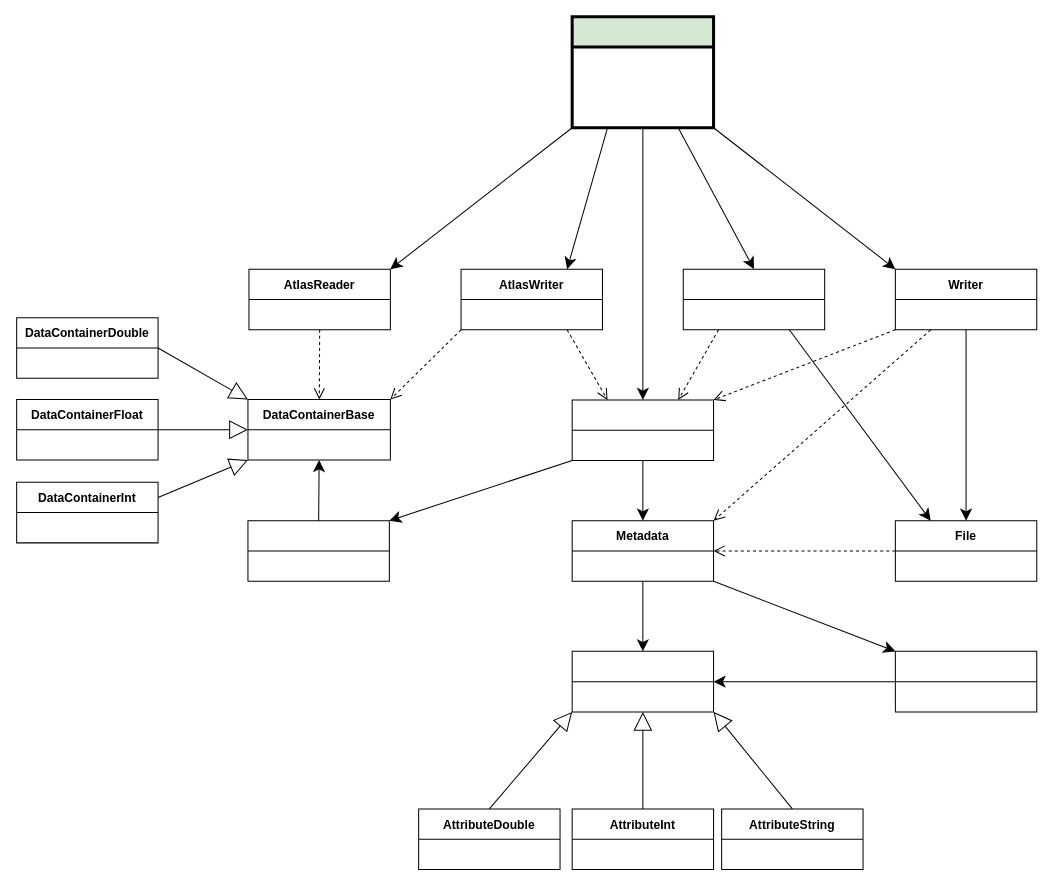
The diagram is 1053 pixels wide and 886 high, and some of its shapes have lost their labels. The shapes that lost their labels are listed below. From the top down, each one's centre as x and y in pixels, then its label:
the point at 642,72: MONIO
the point at 753,299: Reader
the point at 642,430: FileData
the point at 318,550: Data
the point at 642,681: AttributeBase
the point at 965,681: Variable
